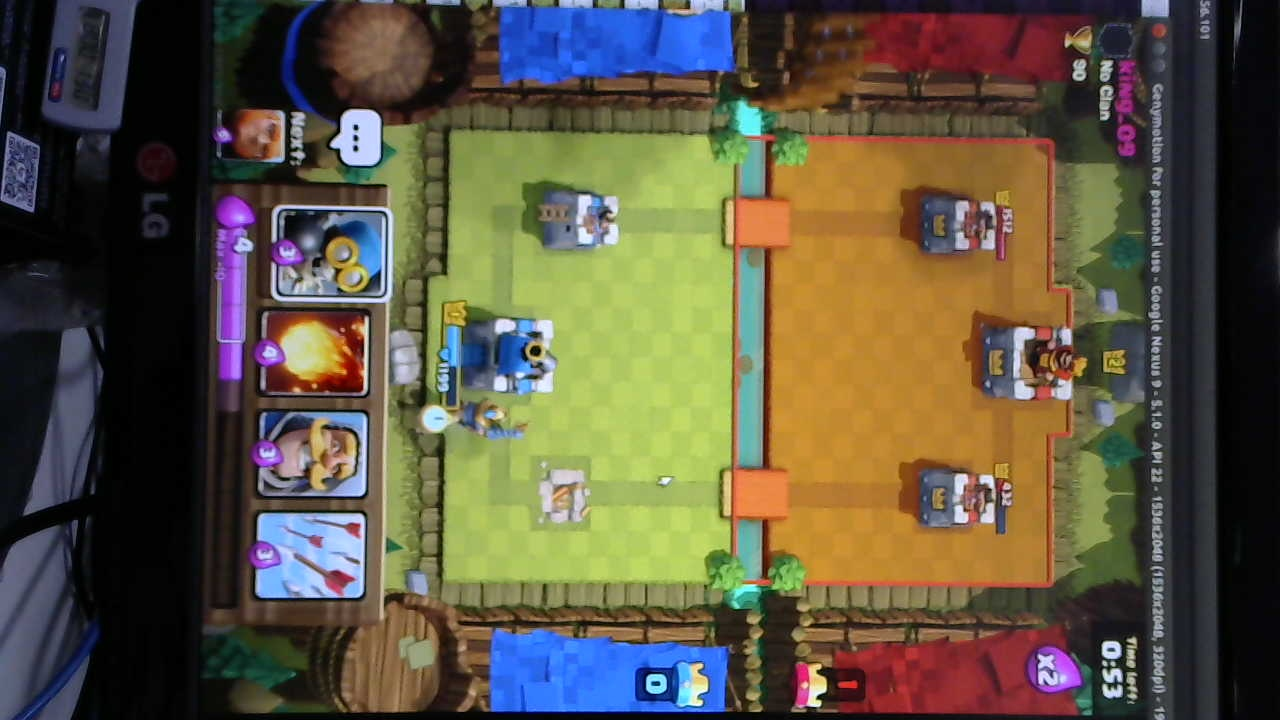arena: (540, 187, 621, 252)
darena: (535, 463, 593, 528)
earena: (920, 469, 999, 533), (920, 195, 998, 255)
eking: (978, 323, 1089, 402)
king: (464, 314, 562, 397)
prince: (443, 399, 525, 442)
